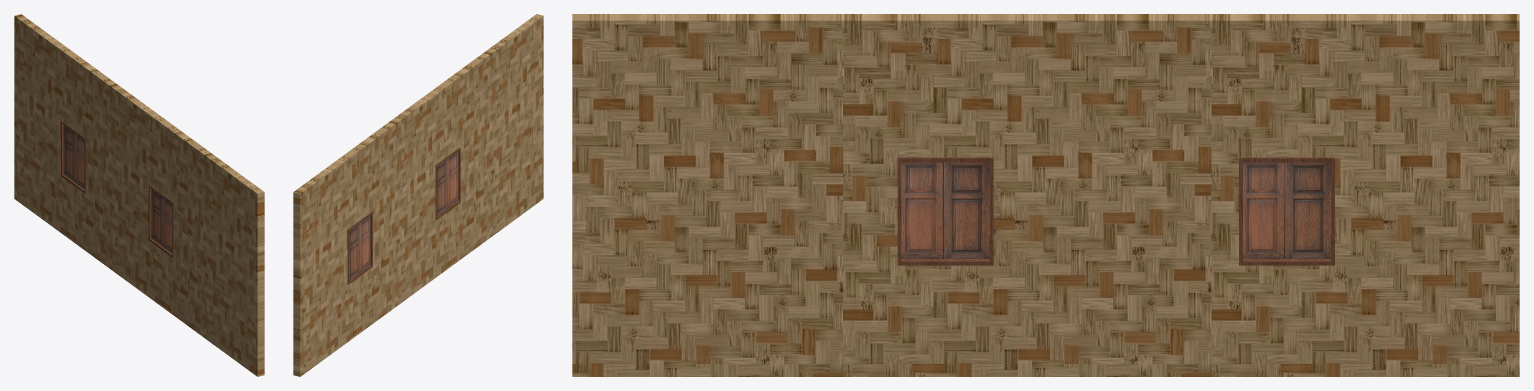
The model's file is R3_Kanan.fbx.
3 views of the same model, side by side, from view 1: azimuth 30°, elevation 25°; view 2: azimuth 150°, elevation 25°; view 3: azimuth 270°, elevation 25° (orthographic). The views are drawn at different scales.
Parts seen in each view (by area): view 1: T_Kanan_R3; view 2: T_Kanan_R3; view 3: T_Kanan_R3.
Boxes of the visible parts, x1=… form: T_Kanan_R3: x1=14, y1=14, x2=264, y2=376; T_Kanan_R3: x1=293, y1=14, x2=543, y2=376; T_Kanan_R3: x1=572, y1=14, x2=1519, y2=376.
Size of the model in its own units: 0.3625 by 7.35 by 17.72.
Materials: 3 (3 with a texture image).
